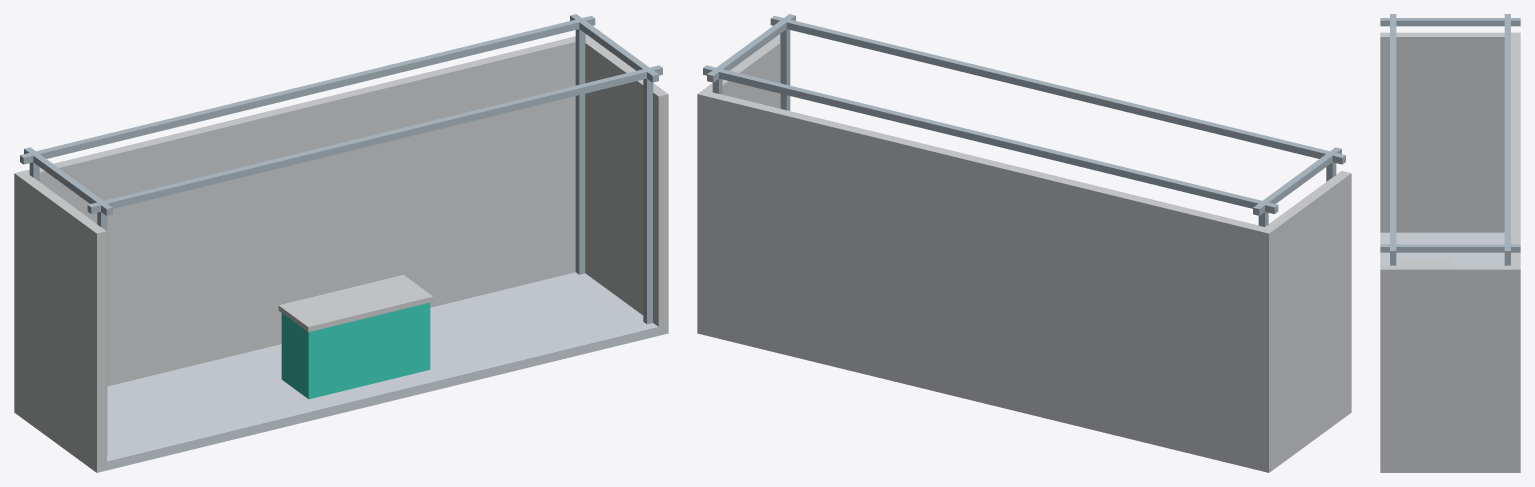
The picture shows the model from 3 angles, left to right: view 1: azimuth 30°, elevation 25°; view 2: azimuth 150°, elevation 25°; view 3: azimuth 270°, elevation 25°; orthographic projection. The views are drawn at different scales.
Parts seen in each view (by area): view 1: Exhibition Booth Concept; view 2: Exhibition Booth Concept; view 3: Exhibition Booth Concept.
Boxes of the visible parts, bbox=[...] form: Exhibition Booth Concept: bbox=[14, 14, 668, 472]; Exhibition Booth Concept: bbox=[697, 14, 1351, 472]; Exhibition Booth Concept: bbox=[1380, 14, 1520, 472].
Size of the model in its own units: 8 by 3.49 by 2.
